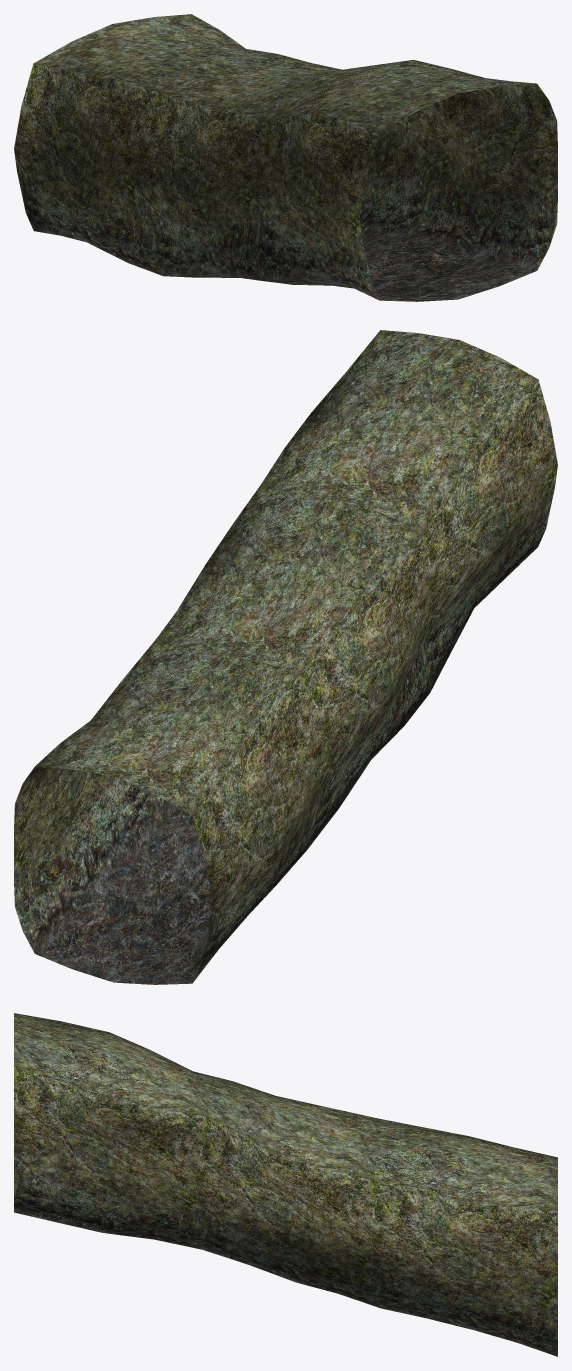
The model's file is thm_all_cave_s03_damprock_r7_r7.fbx.
3 renders of one model, top to bottom at view 1: azimuth 30°, elevation 25°; view 2: azimuth 150°, elevation 25°; view 3: azimuth 270°, elevation 25°, orthographic. The views are drawn at different scales.
Visible parts, largest first — view 1: mesh_node; view 2: mesh_node; view 3: mesh_node.
Boxes of the visible parts, left/top/right/bottom form: mesh_node: left=14, top=14, right=557, bottom=301; mesh_node: left=14, top=330, right=557, bottom=984; mesh_node: left=14, top=1013, right=557, bottom=1356.
Bounding box in the file's own units: 8.34 × 14.93 × 24.
